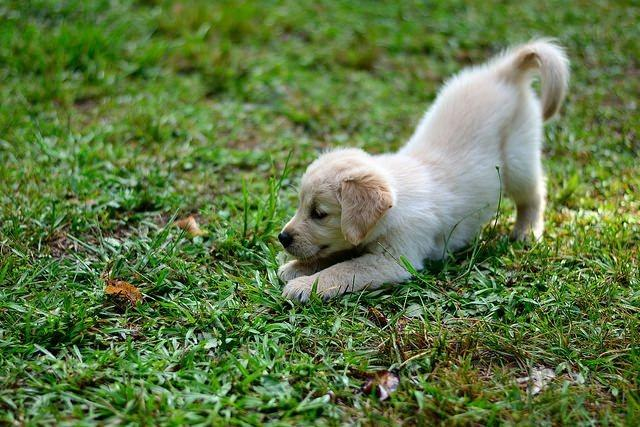puppy-dog: (273, 38, 572, 304)
